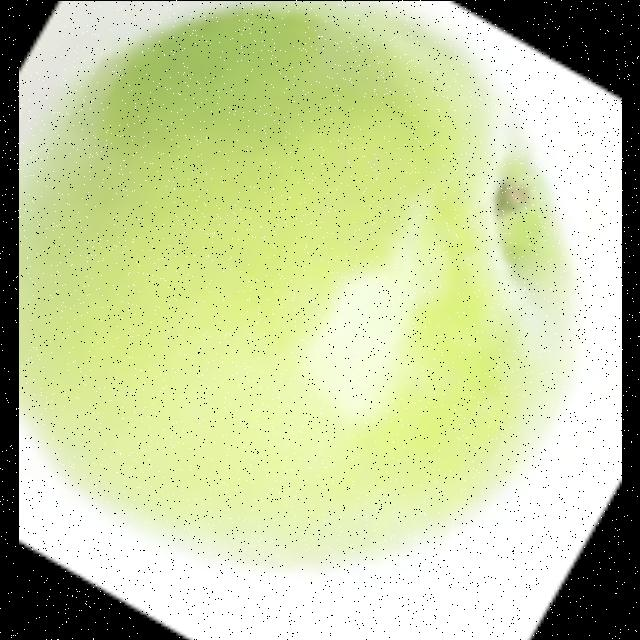Apel Segar: (18, 1, 584, 592)
